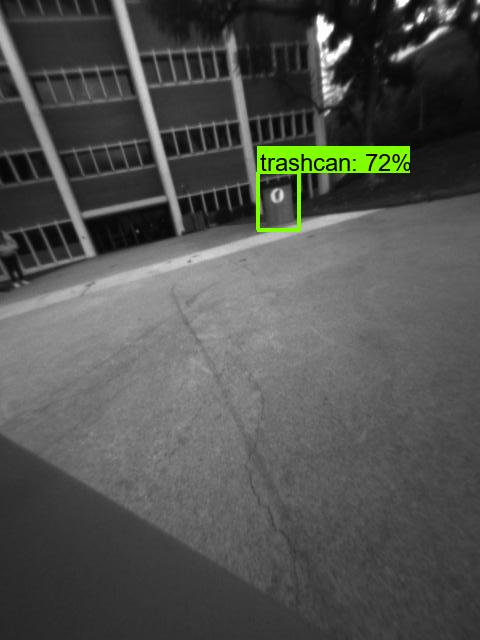trashcan: (260, 179, 299, 227)
